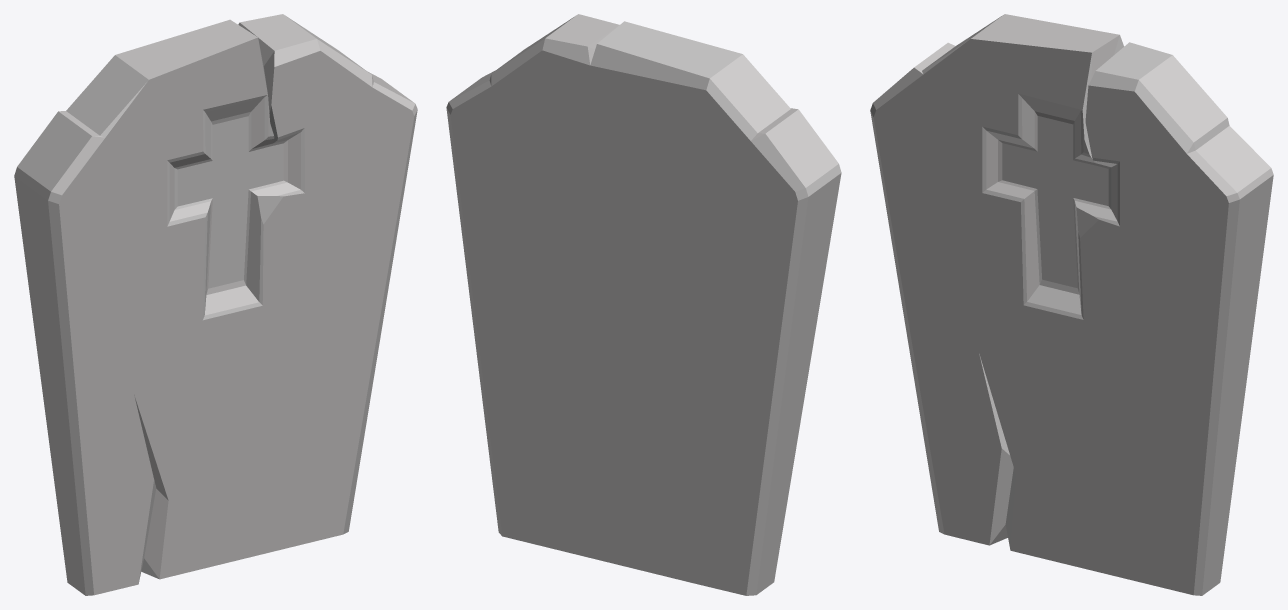
Rendered from WF_LP_HT_Props_Gravestone.007.fbx.
The picture shows the model from 3 angles, left to right: view 1: azimuth 30°, elevation 25°; view 2: azimuth 150°, elevation 25°; view 3: azimuth 330°, elevation 25°; orthographic projection. The views are drawn at different scales.
Visible parts, largest first — view 1: WF_LP_HT_Props_Gravestone.007; view 2: WF_LP_HT_Props_Gravestone.007; view 3: WF_LP_HT_Props_Gravestone.007.
Part boxes in pixels (x1,y1,x2,y2): WF_LP_HT_Props_Gravestone.007: [14, 14, 417, 595]; WF_LP_HT_Props_Gravestone.007: [446, 14, 841, 595]; WF_LP_HT_Props_Gravestone.007: [870, 14, 1273, 595].
Bounding box in the file's own units: 0.702 × 0.9548 × 0.1351.
